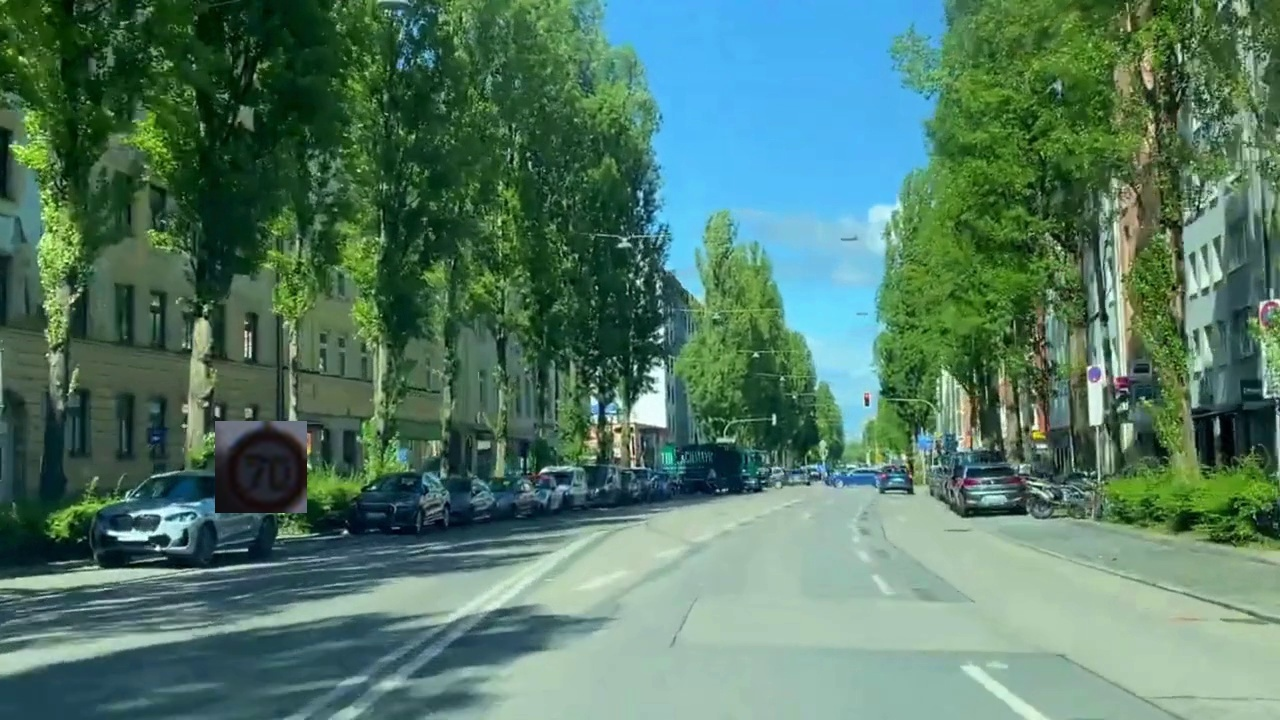Speed 70: (215, 421, 307, 513)
